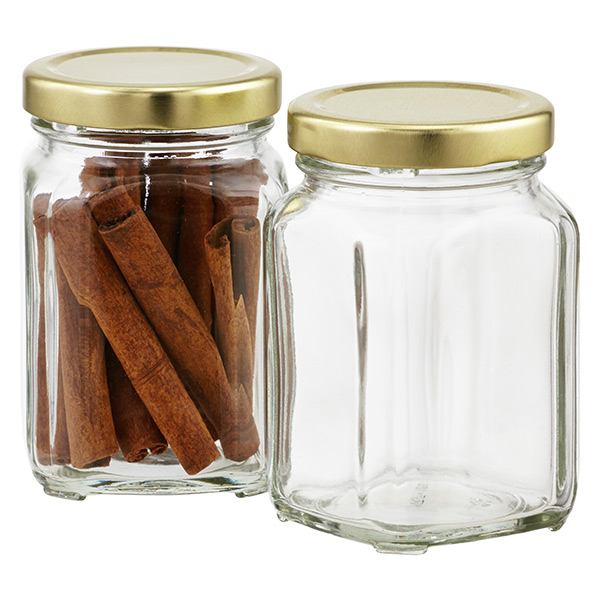Rec_Glass: (275, 80, 587, 551), (11, 37, 297, 518)
